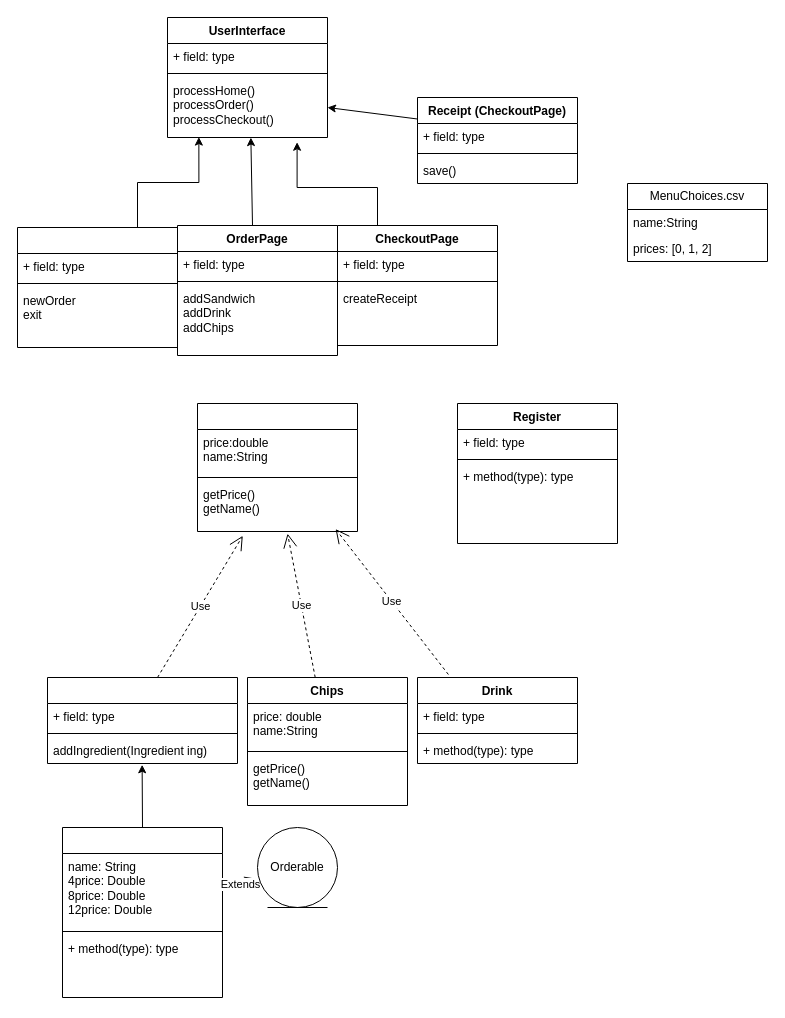
Image size: 785x1018. Some labels were removed from this diagram. The shapes that lost their labels are listed below. From the top down, each one's box as (x1, y1, x2, y2) in pixels, then its label:
(16, 226, 178, 348): HomePage
(196, 402, 358, 532): abstract Orderable
(46, 676, 238, 764): Sandwich
(62, 826, 222, 998): Ingredient
